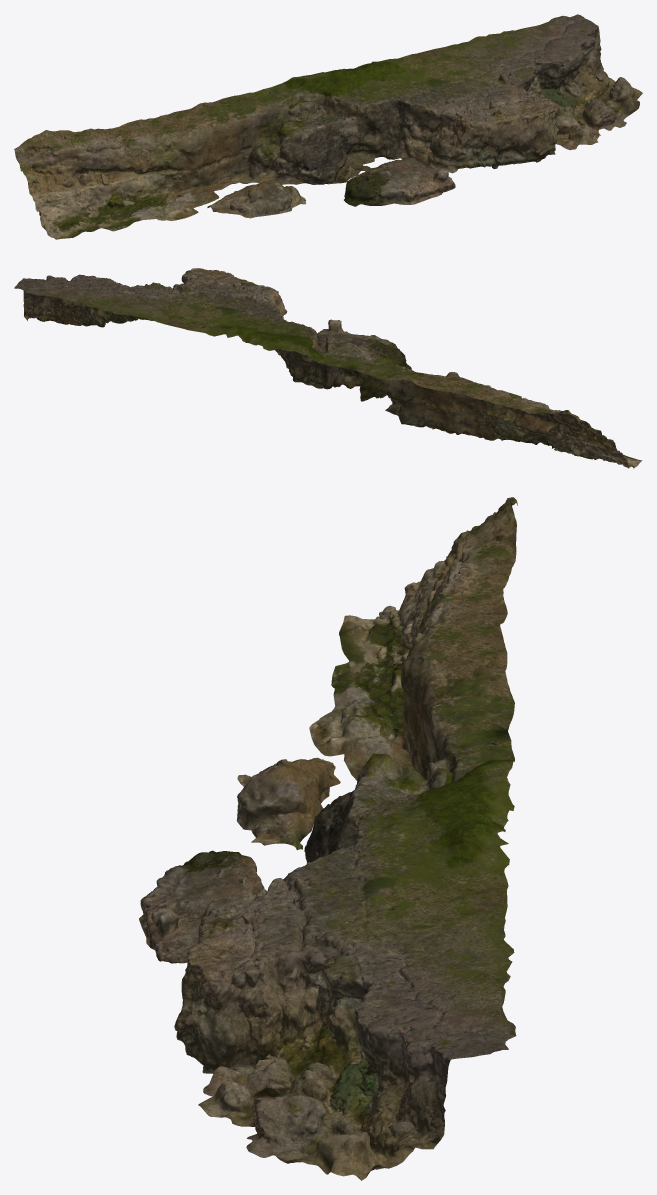
Rendered from coastal_cliff_04.glb.
The picture shows the model from 3 angles, top to bottom: view 1: azimuth 30°, elevation 25°; view 2: azimuth 150°, elevation 25°; view 3: azimuth 270°, elevation 25°; orthographic projection. The views are drawn at different scales.
Parts seen in each view (by area): view 1: coastal_cliff_04; view 2: coastal_cliff_04; view 3: coastal_cliff_04.
Part boxes in pixels (box(x1,y1,x2,y2)): coastal_cliff_04: box(14, 14, 642, 239); coastal_cliff_04: box(14, 268, 642, 468); coastal_cliff_04: box(139, 497, 517, 1180).
Size of the model in its own units: 86.77 by 11 by 24.25.
1 material, 1 textured.
